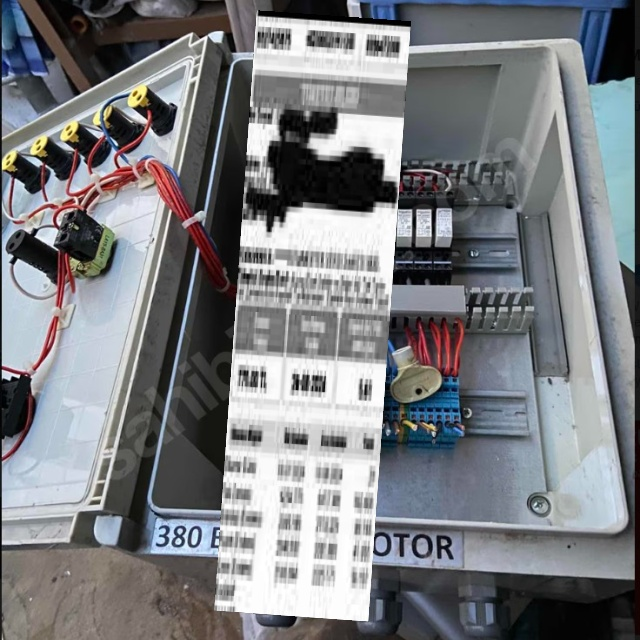electricity-bill: (214, 10, 410, 622)
